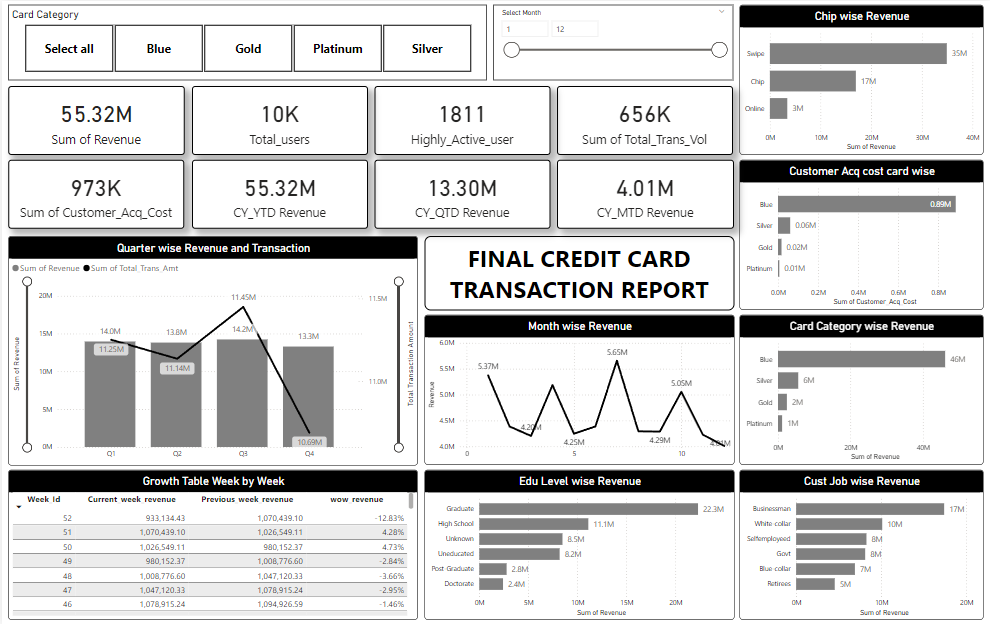

The dashboard page shown, as its layout file describes it:
{"tool":"powerbi","page":{"name":"Final Report","canvas":[1580,1000],"ordinal":5},"visuals":[{"type":"textbox","box":[675.3,375.3,496,119],"z":0},{"type":"tableEx","title":"Growth Table Week by Week","fields":{"Values":["Sum(credit_card.Week_Num2)","credit_card.Current_week_revenue","credit_card.Previous_week_revenue","credit_card.wow_revenue"]},"box":[10.1,750.7,655.2,239.6],"z":1000},{"type":"lineStackedColumnComboChart","title":"Quarter wise Revenue and Transaction","fields":{"Category":["credit_card.Qtr"],"Y":["Sum(credit_card.Revenue)"],"Y2":["Sum(credit_card.Total_Trans_Amt)"]},"box":[10.1,375.3,655.2,367],"z":2000},{"type":"barChart","title":"Edu Level wise Revenue","fields":{"Category":["customer.Education_Level"],"Y":["Sum(credit_card.Revenue)"]},"box":[675.3,750.7,496,240],"z":4000},{"type":"barChart","title":"Cust Job wise Revenue","fields":{"Category":["customer.Customer_Job"],"Y":["Sum(credit_card.Revenue)"]},"box":[1179.6,750.7,390.4,240],"z":5000},{"type":"lineChart","title":"Month wise Revenue","fields":{"Category":["credit_card.Month_Id"],"Y":["Sum(credit_card.Revenue)"]},"box":[675.3,502.7,496,239.6],"z":6000},{"type":"barChart","title":"Card Category wise Revenue","fields":{"Category":["credit_card.Card_Category"],"Y":["Sum(credit_card.Revenue)"]},"box":[1179.6,502.7,390.4,239.6],"z":6001},{"type":"barChart","title":"Customer Acq cost card wise","fields":{"Category":["credit_card.Card_Category"],"Y":["Sum(credit_card.Customer_Acq_Cost)"]},"box":[1179.6,254.7,390.4,239.6],"z":6002},{"type":"barChart","title":"Chip wise Revenue","fields":{"Y":["Sum(credit_card.Revenue)"],"Category":["credit_card.Use Chip"]},"box":[1179.6,6.7,390.4,239.6],"z":6003},{"type":"slicer","title":"Card Category","fields":{"Values":["credit_card.Card_Category"]},"box":[10.1,6.7,765.8,120.6],"z":6004},{"type":"slicer","fields":{"Values":["credit_card.Month_Id"]},"box":[785.9,6.7,383.7,120.6],"z":6006},{"type":"card","title":"Total Revenue","fields":{"Values":["Sum(credit_card.Revenue)"]},"box":[10.1,135.7,282,110.6],"z":6007},{"type":"card","title":"Customer Acq Cost","fields":{"Values":["Sum(credit_card.Customer_Acq_Cost)"]},"box":[10.1,254.7,281.5,110.6],"z":6008},{"type":"card","title":"Transaction Count","fields":{"Values":["Sum(credit_card.Total_Trans_Vol)"]},"box":[888.1,135.7,281.5,110.6],"z":6009},{"type":"card","title":"Highly Active Users","fields":{"Values":["credit_card.Active_user"]},"box":[596.5,135.7,281.5,110.6],"z":6011},{"type":"card","title":"Total Users","fields":{"Values":["credit_card.Total_users"]},"box":[305,135.7,281.5,110.6],"z":6014},{"type":"card","title":"CY_QTD Revenue","fields":{"Values":["credit_card.OTD_CY"]},"box":[596.5,254.7,281.5,110.6],"z":6015},{"type":"card","title":"CY_MTD Revenue","fields":{"Values":["credit_card.CY_MTD Revenue"]},"box":[888.1,254.7,283.2,110.6],"z":6016},{"type":"card","title":"CY_YTD Revenue","fields":{"Values":["credit_card.CY_YTD Revenue"]},"box":[305,254.7,281.5,110.6],"z":6017}]}

Visuals, with their boxes in screenshot pixels (x1, y1, x2, y2), scaled from the page's 1580x1000 canvas onto the 990x624 screenshot:
textbox: 423, 234, 734, 308
"Growth Table Week by Week" tableEx: 6, 468, 417, 618
"Quarter wise Revenue and Transaction" lineStackedColumnComboChart: 6, 234, 417, 463
"Edu Level wise Revenue" barChart: 423, 468, 734, 618
"Cust Job wise Revenue" barChart: 739, 468, 984, 618
"Month wise Revenue" lineChart: 423, 314, 734, 463
"Card Category wise Revenue" barChart: 739, 314, 984, 463
"Customer Acq cost card wise" barChart: 739, 159, 984, 308
"Chip wise Revenue" barChart: 739, 4, 984, 154
"Card Category" slicer: 6, 4, 486, 79
slicer - credit_card.Month_Id: 492, 4, 733, 79
"Total Revenue" card: 6, 85, 183, 154
"Customer Acq Cost" card: 6, 159, 183, 228
"Transaction Count" card: 556, 85, 733, 154
"Highly Active Users" card: 374, 85, 550, 154
"Total Users" card: 191, 85, 367, 154
"CY_QTD Revenue" card: 374, 159, 550, 228
"CY_MTD Revenue" card: 556, 159, 734, 228
"CY_YTD Revenue" card: 191, 159, 367, 228
